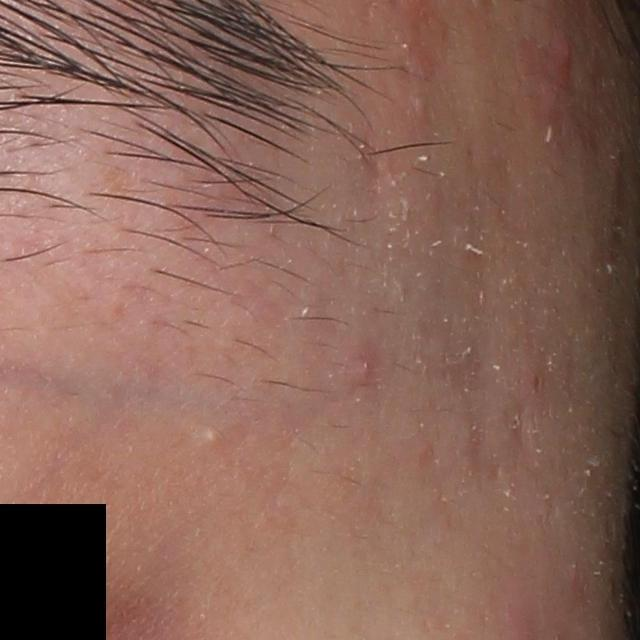comedo: (204, 428, 222, 447)
papule: (541, 37, 576, 86), (344, 345, 375, 383)
